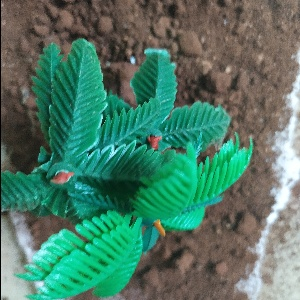plant: (1, 38, 257, 300)
